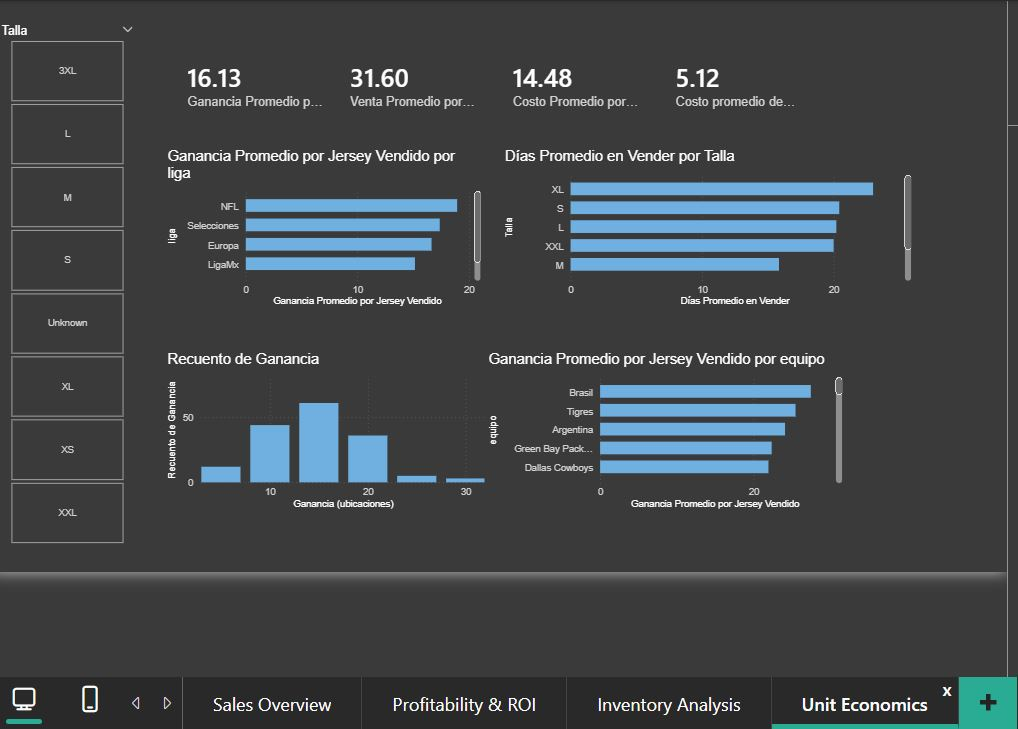

The page's visual inventory and layout, read from the dashboard file:
{"tool":"powerbi","page":{"name":"Unit Economics","canvas":[1280,720],"ordinal":3},"visuals":[{"type":"cardVisual","fields":{"Data":["KPIS Base.Ganancia Promedio por Jersey Vendido","KPIS Base.Venta Promedio por Jersey","KPIS Base.Costo Promedio por Jersey","KPIS Base.Costo promedio de envio"]},"box":[217.3,22.7,846.6,162.5],"z":0},{"type":"barChart","fields":{"Category":["data_jerseys_cleaned.liga"],"Y":["KPIS Base.Ganancia Promedio por Jersey Vendido"]},"box":[217.3,185.2,404.4,204.1],"z":1000},{"type":"columnChart","title":"Recuento de Ganancia ","fields":{"Category":["data_jerseys_cleaned.Ganancia (ubicaciones)"],"Y":["CountNonNull(data_jerseys_cleaned.Ganancia)"]},"box":[217.3,440.3,410.1,204.1],"z":2000},{"type":"barChart","fields":{"Category":["data_jerseys_cleaned.equipo"],"Y":["KPIS Base.Ganancia Promedio por Jersey Vendido"]},"box":[621.7,440.3,455.4,204.1],"z":3000},{"type":"slicer","fields":{"Values":["data_jerseys_cleaned.Talla"]},"box":[0,22.7,190.9,667.1],"z":4000},{"type":"clusteredBarChart","fields":{"Y":["KPIS Base.Días Promedio en Vender"],"Category":["data_jerseys_cleaned.Talla"]},"box":[642.5,185.2,521.6,204.1],"z":5000}]}

Visuals, with their boxes on the page's 1280x720 design canvas (x1, y1, x2, y2). These are canvas units, not pixel positions in the 1018x729 screenshot, which may show the page scaled, cropped or inside an application window:
cardVisual - KPIS Base.Ganancia Promedio por Jersey Vendido x KPIS Base.Venta Promedio por Jersey: [x1=217, y1=23, x2=1064, y2=185]
barChart - data_jerseys_cleaned.liga x KPIS Base.Ganancia Promedio por Jersey Vendido: [x1=217, y1=185, x2=622, y2=389]
"Recuento de Ganancia " columnChart: [x1=217, y1=440, x2=627, y2=644]
barChart - data_jerseys_cleaned.equipo x KPIS Base.Ganancia Promedio por Jersey Vendido: [x1=622, y1=440, x2=1077, y2=644]
slicer - data_jerseys_cleaned.Talla: [x1=0, y1=23, x2=191, y2=690]
clusteredBarChart - KPIS Base.Días Promedio en Vender x data_jerseys_cleaned.Talla: [x1=642, y1=185, x2=1164, y2=389]
